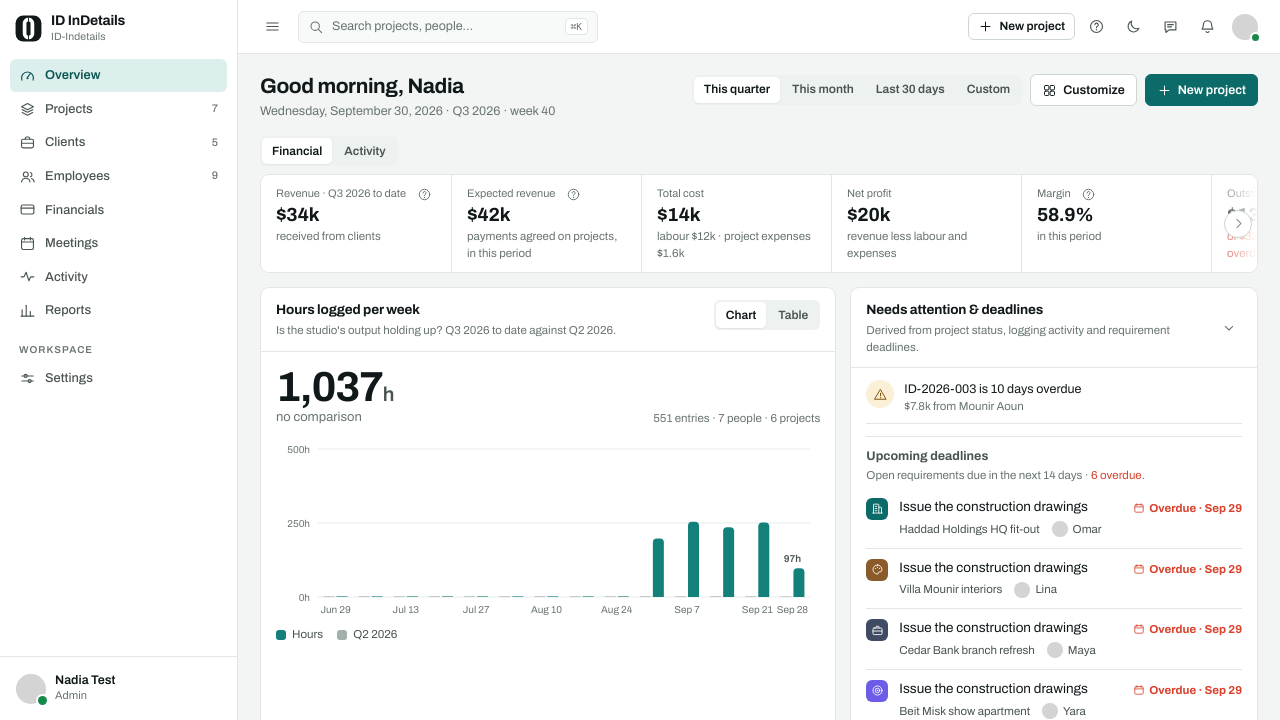
Test: Overview › saves a new arrangement, and forgets it on Reset
Click the button "Customize" at (1083, 90), box x1=1030 y1=74 x2=1137 y2=106
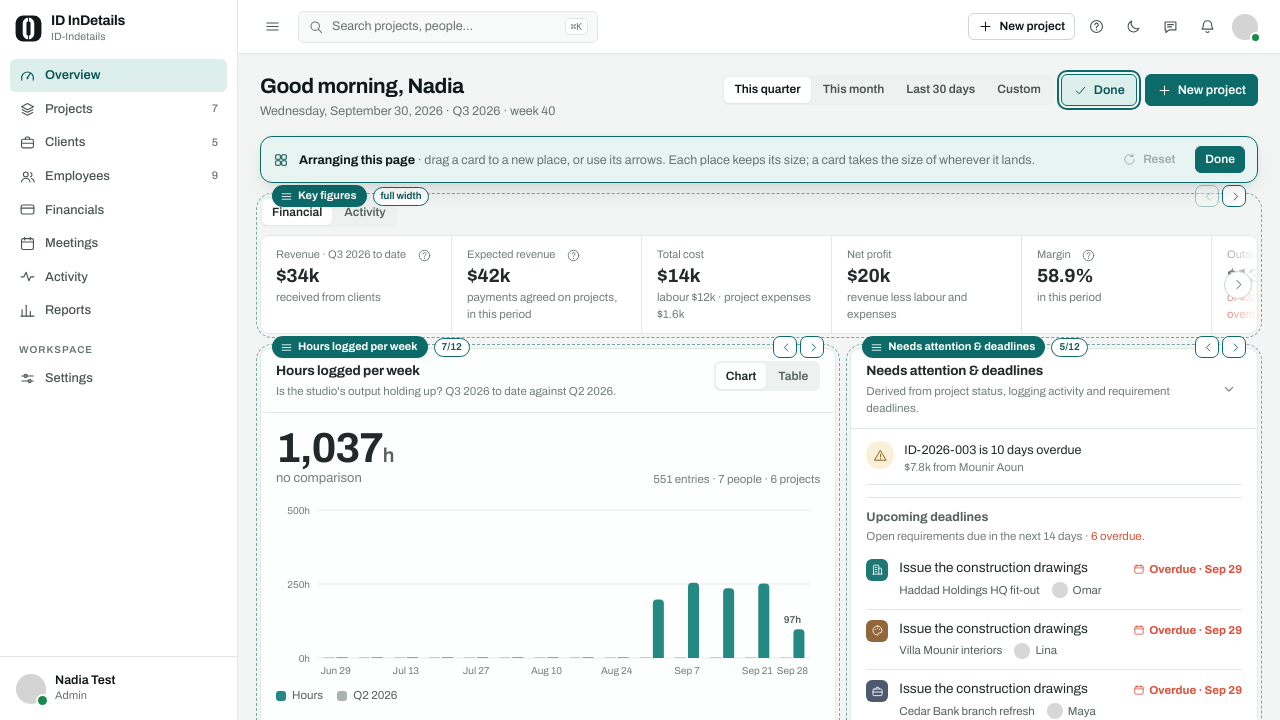
Expected: the text "Arranging this page" is shown, x1=299 y1=153 x2=415 y2=167
Click the button named "Move Key figures later" at (1234, 196), box x1=1222 y1=185 x2=1246 y2=207
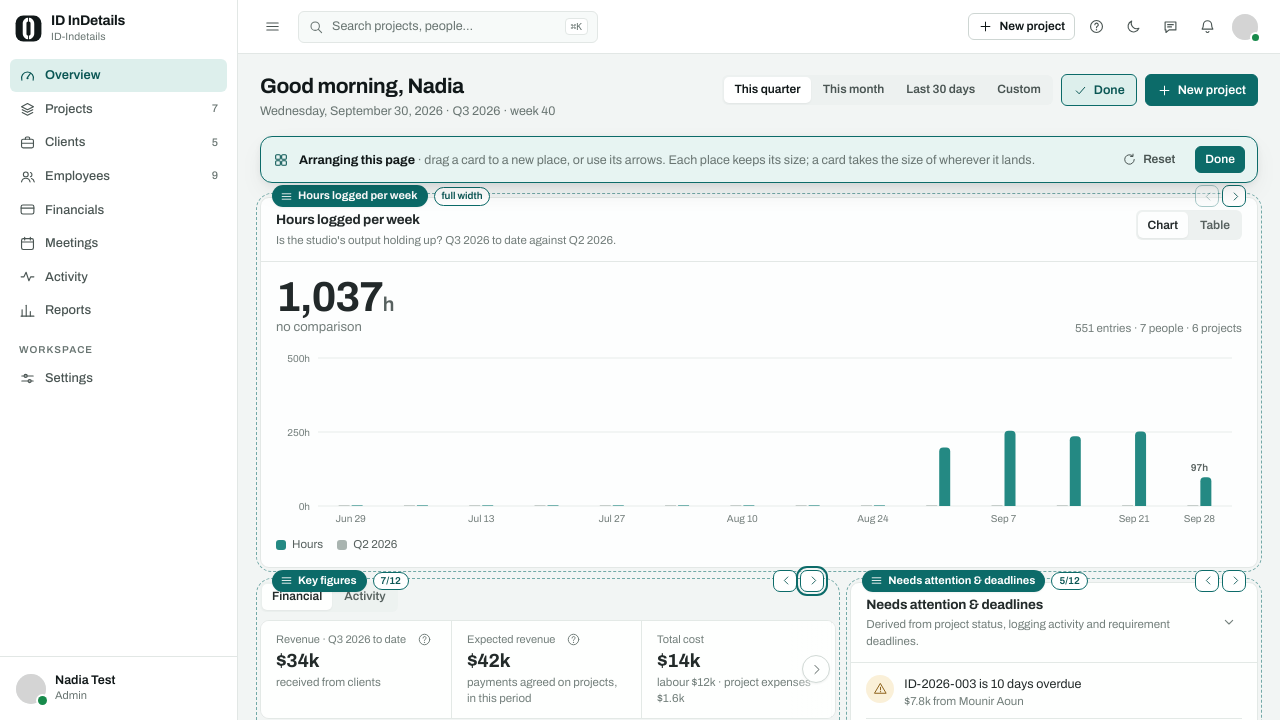
Click the button "Reset" at (1149, 160), box x1=1112 y1=146 x2=1185 y2=173
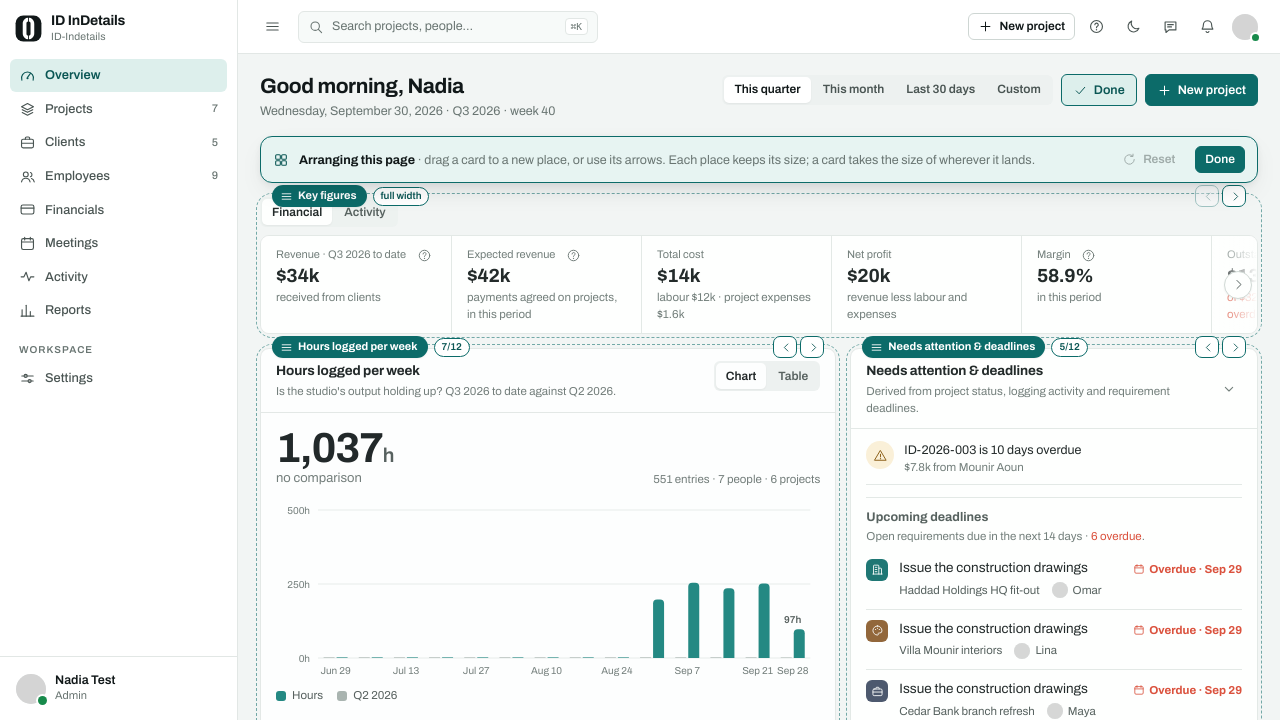
Click the button "Done" in the row of "Arranging this page" at (1220, 160), box x1=1195 y1=146 x2=1245 y2=173
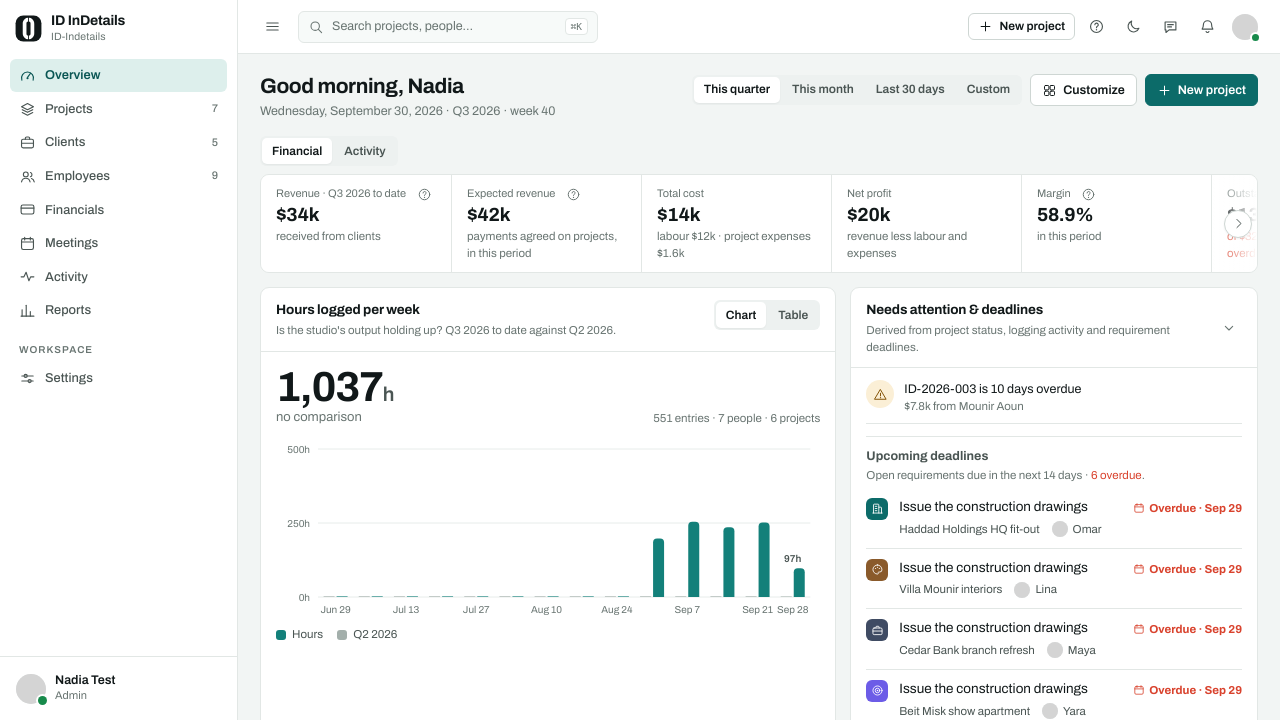
Expected: the text "Arranging this page" is gone
